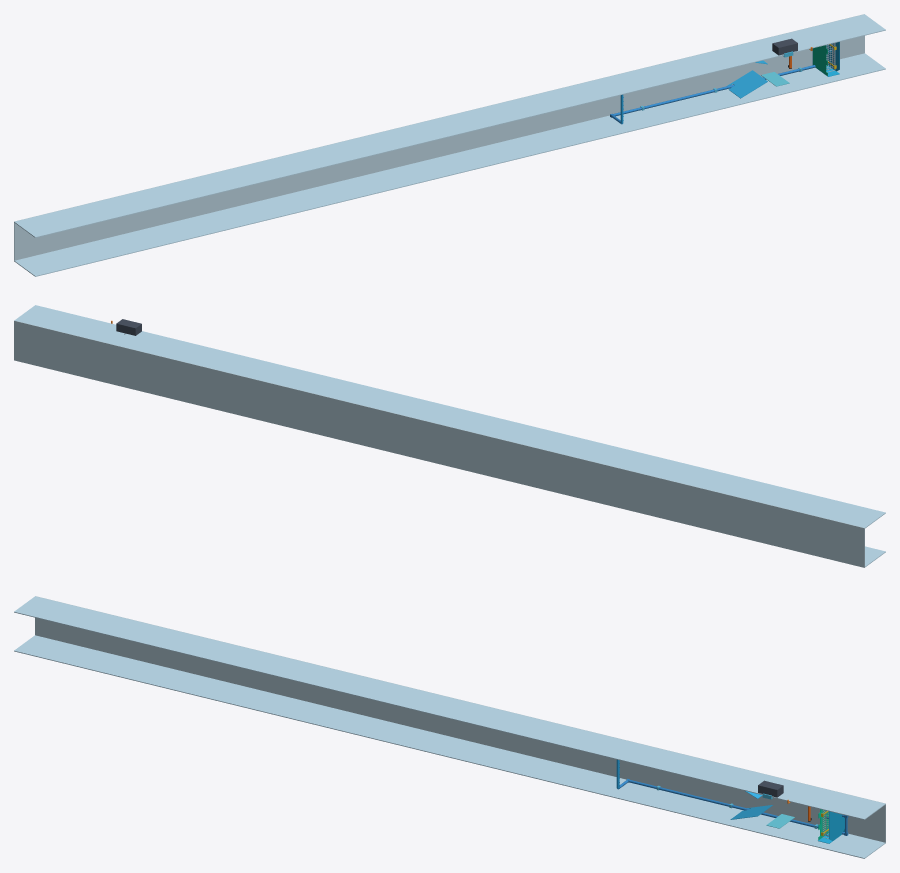
The model's file is forgenesis_full_assembly.obj.
3 views of the same model, one above another, from view 1: azimuth 30°, elevation 25°; view 2: azimuth 150°, elevation 25°; view 3: azimuth 330°, elevation 25° (orthographic).
Visible parts, largest first — view 1: Tank_Left_Wall_Glass, Tank_Right_Wall_Glass, Tank_Floor_Glass, F02_Right_Funnel_Vane, R01_ClosedLoop_Return_Pipe; view 2: Tank_Floor_Glass, Tank_Left_Wall_Glass; view 3: Tank_Left_Wall_Glass, Tank_Right_Wall_Glass, Tank_Floor_Glass, R01_ClosedLoop_Return_Pipe.
Part boxes in pixels (x1,y1,x2,y2): Tank_Left_Wall_Glass: [14, 14, 885, 237]; Tank_Right_Wall_Glass: [14, 53, 885, 276]; Tank_Floor_Glass: [14, 14, 864, 260]; F02_Right_Funnel_Vane: [727, 70, 767, 98]; R01_ClosedLoop_Return_Pipe: [610, 45, 826, 124]; Tank_Floor_Glass: [14, 320, 864, 567]; Tank_Left_Wall_Glass: [14, 305, 885, 528]; Tank_Left_Wall_Glass: [14, 596, 885, 819]; Tank_Right_Wall_Glass: [14, 635, 885, 858]; Tank_Floor_Glass: [35, 596, 885, 842]; R01_ClosedLoop_Return_Pipe: [617, 778, 848, 835].
Size of the model in its own units: 7000 by 372 by 328.
